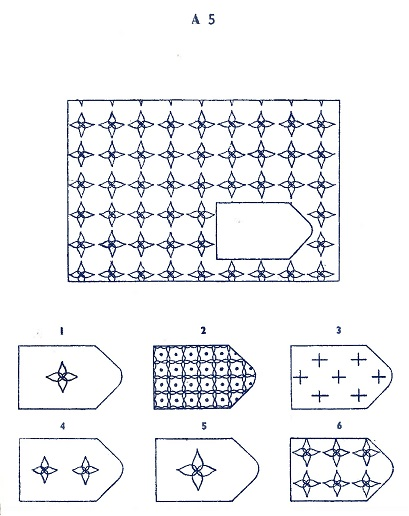Array 1: (12, 319, 126, 414)
Array 2: (148, 320, 259, 413)
Array 3: (284, 320, 395, 413)
Array 4: (13, 417, 128, 506)
Array 5: (149, 415, 263, 506)
Array 6: (286, 416, 398, 506)
Matrix: (63, 93, 344, 287)
Matrix Unknown: (214, 200, 314, 262)
